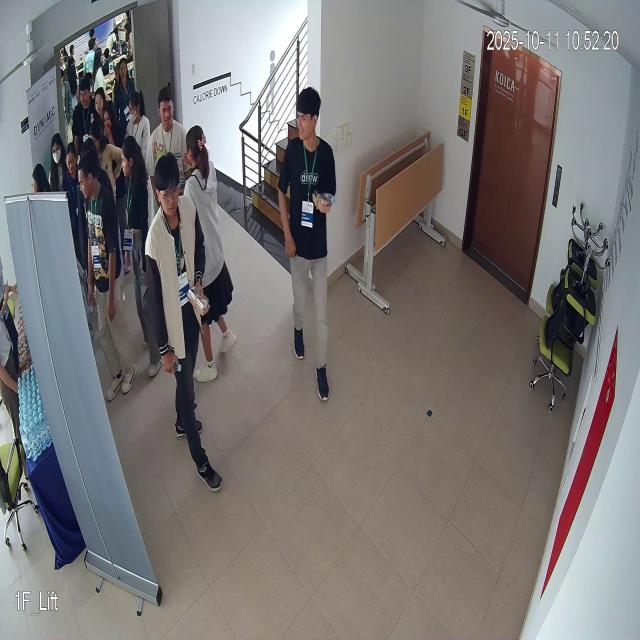face: (148, 149, 184, 218), (291, 84, 323, 154)
